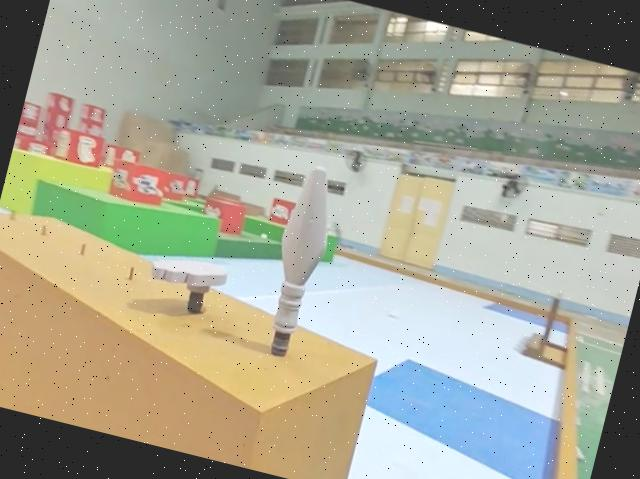Hand: (142, 249, 229, 322)
Sph: (247, 159, 347, 370)
